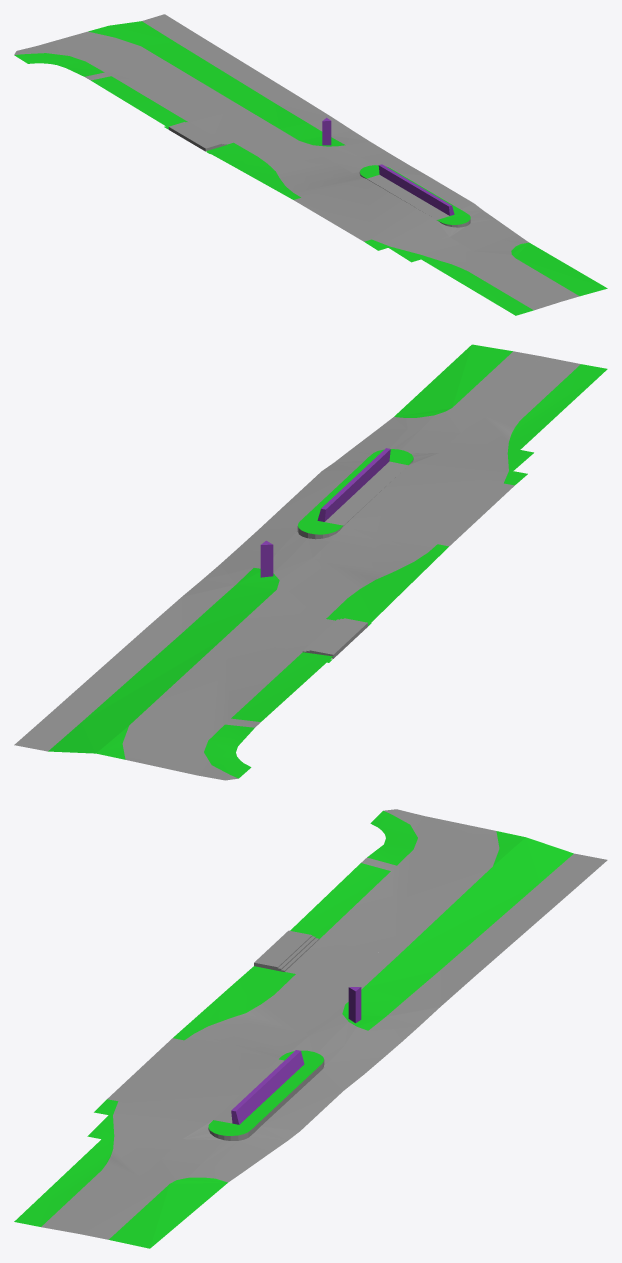
File: bj_beiyuandajiudian_ground.FBX
The picture shows the model from 3 angles, top to bottom: view 1: azimuth 30°, elevation 25°; view 2: azimuth 150°, elevation 25°; view 3: azimuth 330°, elevation 25°; orthographic projection. The views are drawn at different scales.
Visible parts, largest first — view 1: beiyuan_dx_02, beiyuan_dx_01; view 2: beiyuan_dx_02, beiyuan_dx_01; view 3: beiyuan_dx_02, beiyuan_dx_01.
Part boxes in pixels (bbox=[...]): beiyuan_dx_02: bbox=[164, 96, 607, 315]; beiyuan_dx_01: bbox=[14, 14, 297, 127]; beiyuan_dx_02: bbox=[148, 344, 607, 662]; beiyuan_dx_01: bbox=[14, 627, 332, 780]; beiyuan_dx_02: bbox=[14, 930, 473, 1248]; beiyuan_dx_01: bbox=[290, 809, 607, 976].
Size of the model in its own units: 34.04 by 114 by 4.45.
